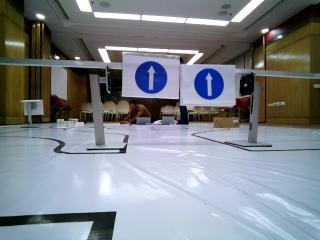straight: (120, 55, 179, 98), (182, 62, 234, 106)
